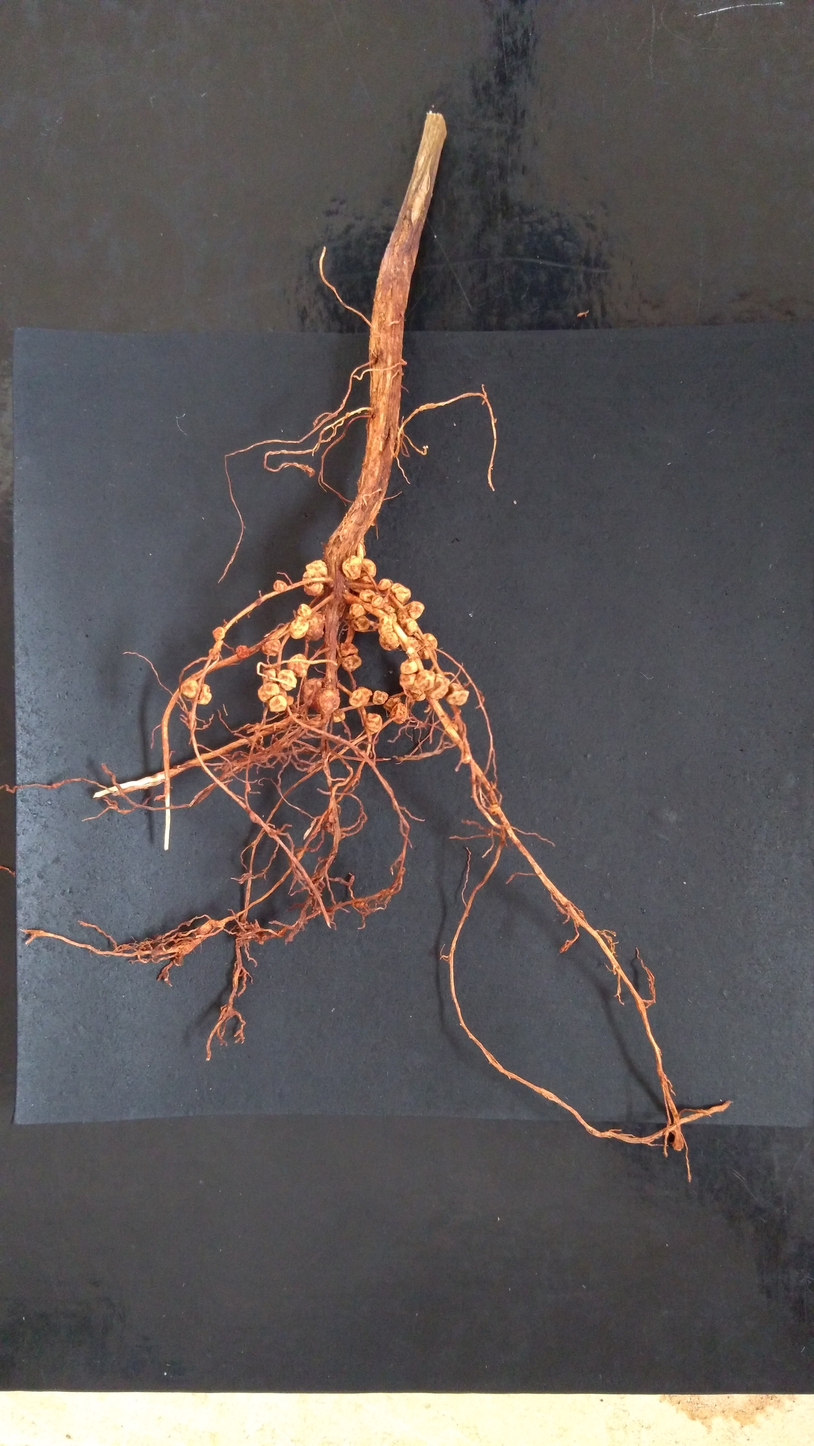nodule: (311, 687, 339, 714), (425, 673, 450, 700), (300, 677, 323, 706), (397, 606, 418, 636), (387, 583, 411, 608), (286, 654, 310, 678), (302, 570, 324, 596), (417, 633, 438, 660), (306, 612, 325, 641), (289, 615, 310, 639), (348, 686, 372, 707), (342, 555, 362, 580), (257, 681, 279, 703), (277, 669, 298, 691), (415, 669, 435, 691), (379, 631, 400, 651), (390, 702, 409, 724), (350, 576, 373, 593), (349, 614, 370, 632), (305, 560, 328, 576), (446, 690, 469, 706), (341, 654, 361, 672), (378, 614, 395, 635), (406, 601, 424, 620), (360, 558, 377, 578), (401, 636, 421, 653), (261, 639, 281, 656), (365, 713, 382, 733), (399, 672, 416, 691), (197, 684, 212, 705), (269, 695, 287, 712), (182, 680, 199, 697), (349, 603, 367, 619), (400, 658, 418, 674), (262, 668, 280, 684), (382, 697, 401, 712), (359, 589, 378, 603), (409, 688, 427, 702), (340, 642, 358, 656), (372, 690, 388, 705), (296, 603, 312, 618), (195, 923, 213, 936), (371, 594, 386, 609), (332, 709, 346, 723), (672, 1136, 685, 1151), (236, 645, 249, 659), (212, 627, 225, 641), (273, 580, 288, 592), (378, 578, 393, 590), (237, 936, 251, 947), (459, 752, 471, 764), (382, 603, 395, 614), (173, 953, 184, 966), (208, 648, 219, 660), (488, 804, 499, 815), (213, 639, 223, 651), (249, 810, 258, 823), (277, 687, 287, 698), (449, 683, 461, 692), (449, 723, 459, 732), (285, 695, 294, 705), (328, 812, 336, 823), (354, 902, 368, 908), (389, 612, 397, 622), (578, 912, 583, 920), (370, 520, 375, 526), (186, 921, 191, 927), (346, 412, 350, 416), (357, 410, 361, 414), (401, 372, 404, 376)
